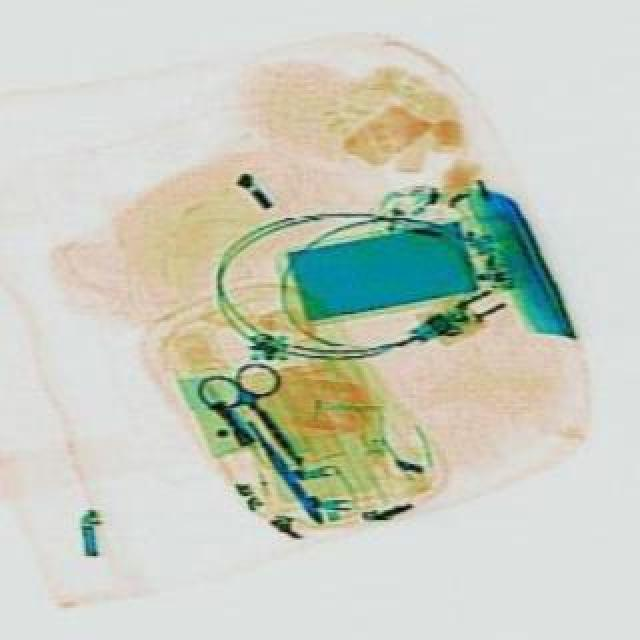pliers: (188, 344, 326, 488)
